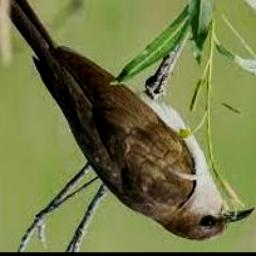Cuckoo: (0, 0, 255, 242)
